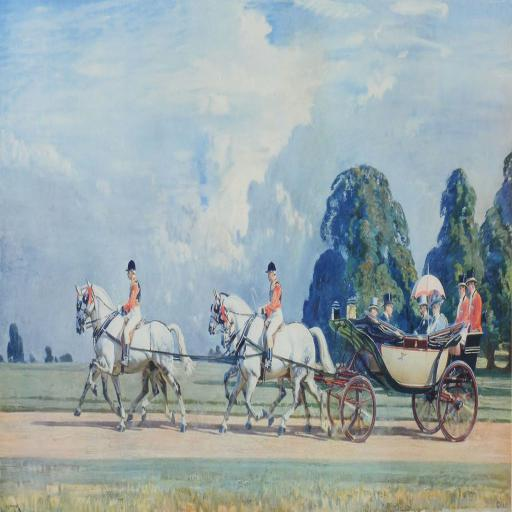horse: (207, 288, 338, 436), (78, 277, 196, 435), (220, 298, 338, 440), (74, 284, 174, 424)
